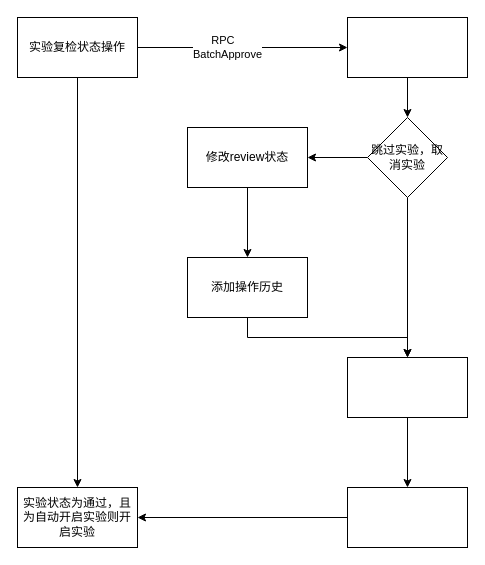
This 485x565 diagram has some shape labels left out. The box of each missing label's shape, as (x1, y1, x2, y2) in pixels:
修改实验状态: (346, 16, 468, 78)
根据策略判断实验是否通过，发送lar通知: (346, 356, 468, 418)
返回: (346, 486, 468, 548)
